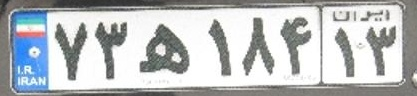character: (132, 19, 194, 85), (49, 15, 92, 84), (91, 15, 133, 84), (196, 13, 237, 80), (276, 11, 315, 80), (238, 11, 277, 78), (363, 24, 401, 79), (327, 22, 359, 80)
